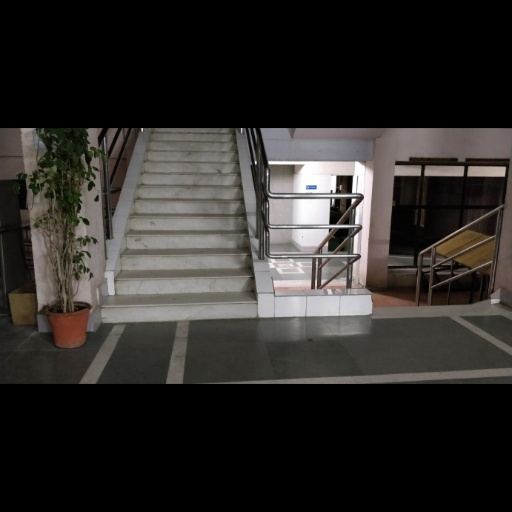Stairs: (101, 129, 257, 320)
